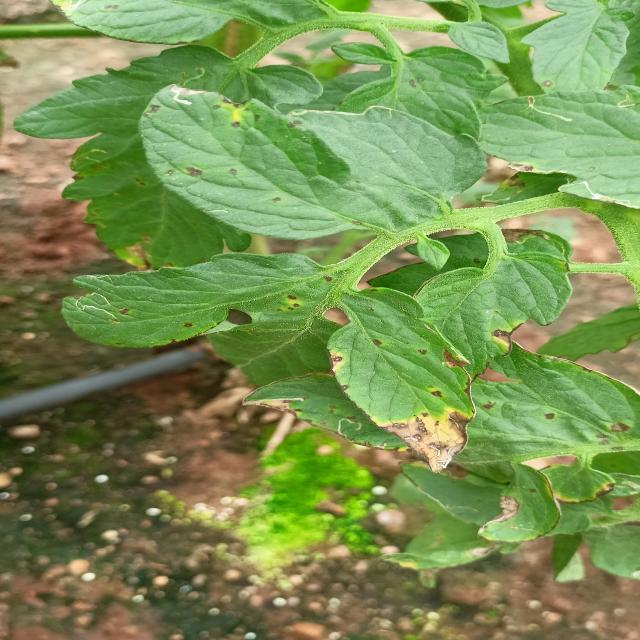Tomato mosaic virus leaf: (126, 100, 368, 245), (319, 287, 480, 478), (137, 254, 340, 353), (474, 377, 640, 459), (474, 466, 563, 544), (482, 308, 544, 353), (528, 62, 587, 92)
